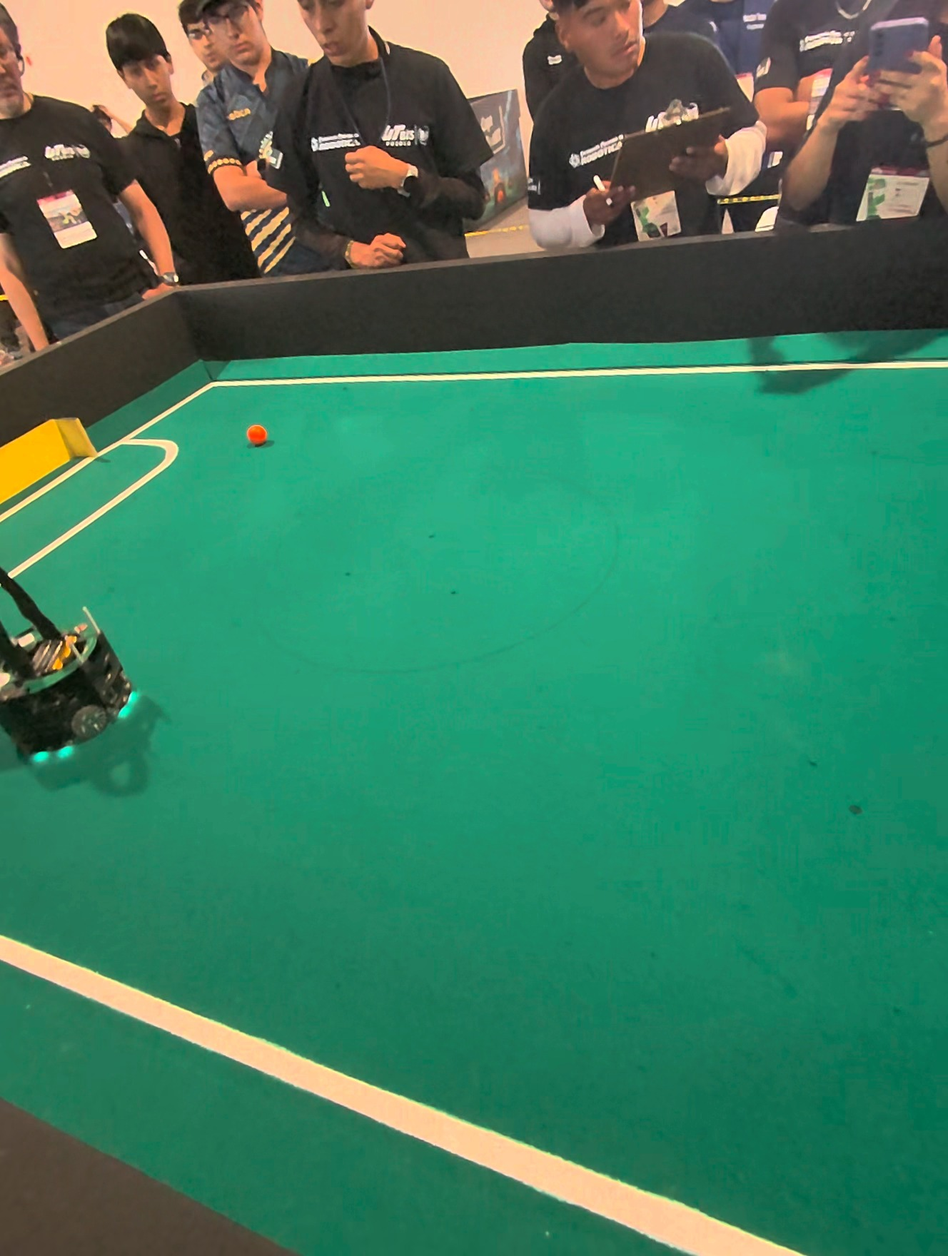Robot: (0, 511, 162, 799)
pelota: (237, 406, 271, 460)
